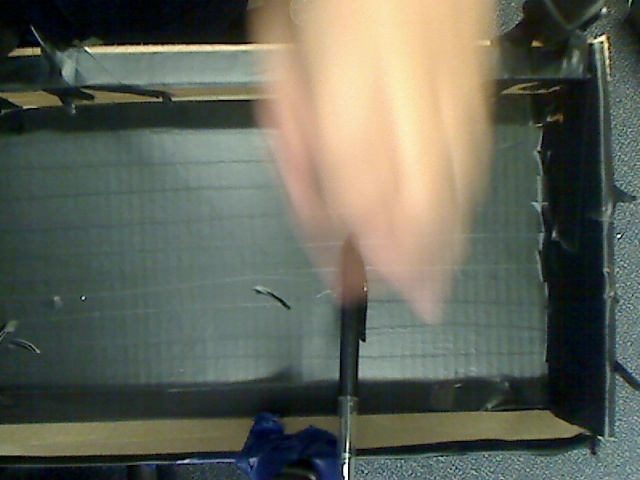pen: (322, 220, 389, 480)
